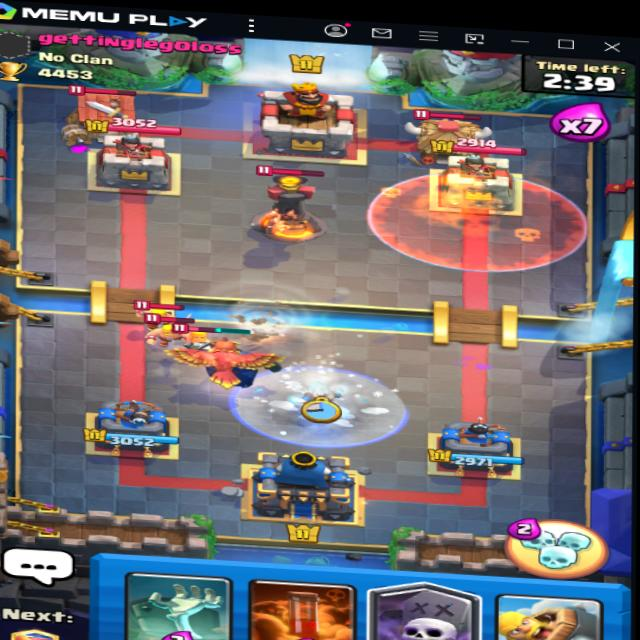barbarian: (172, 316, 223, 353), (145, 319, 191, 344), (140, 296, 179, 322)
barbarian-hut: (61, 80, 144, 151)
goblin-hut: (407, 104, 495, 167)
inferno-tower: (244, 162, 333, 242)
